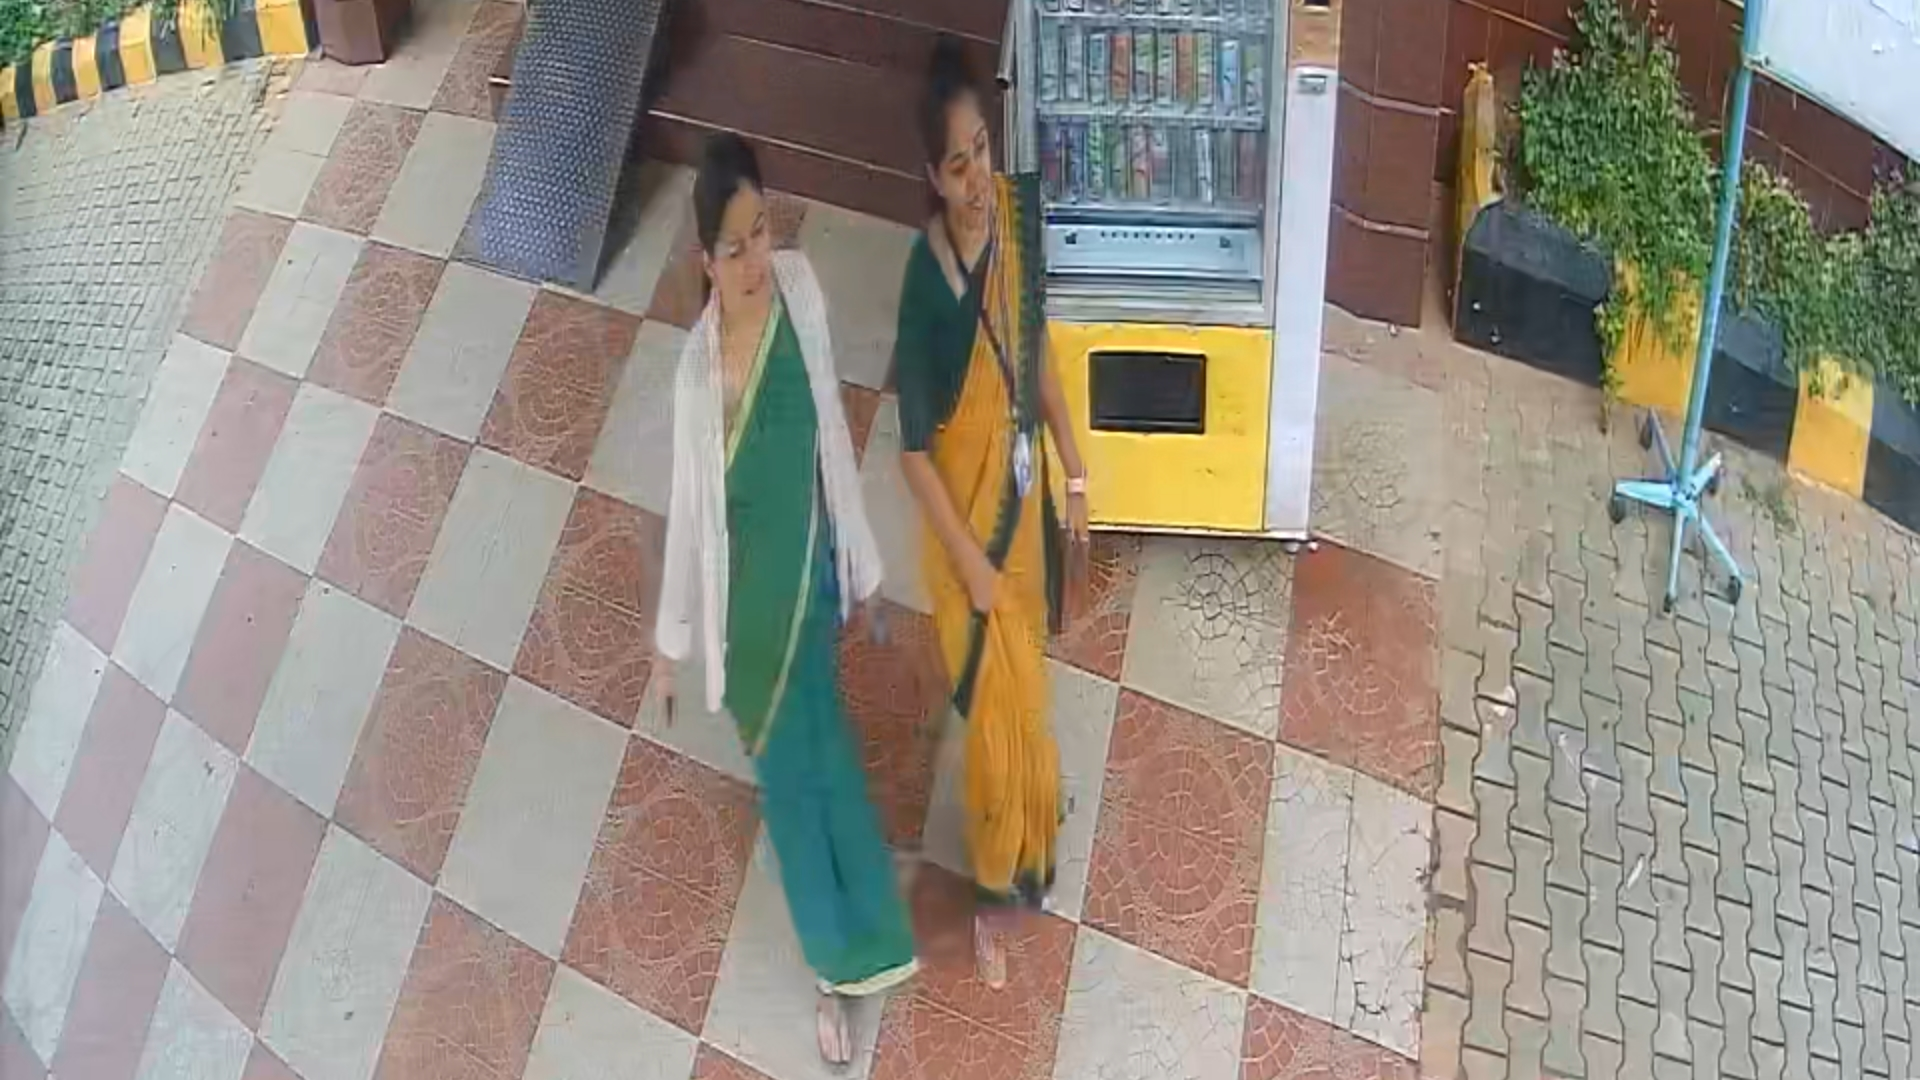intruder: (669, 137, 913, 1022)
not intruder: (891, 50, 1106, 944)
